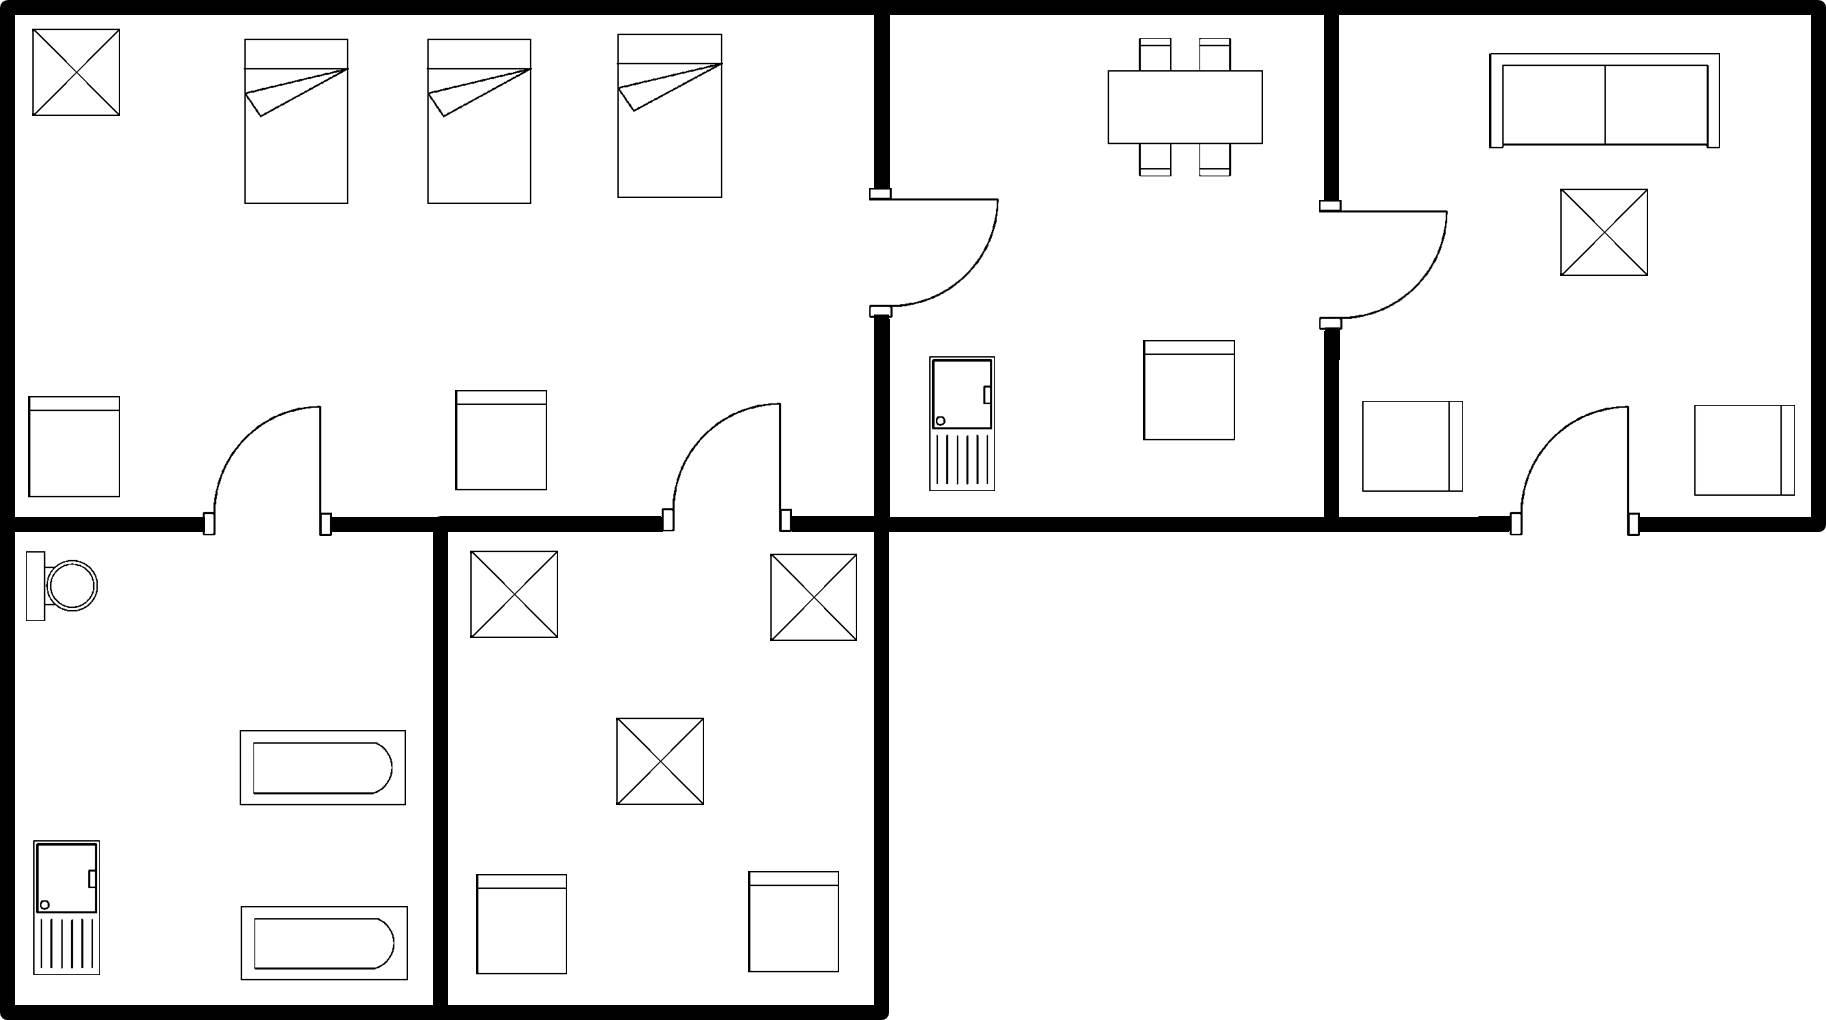bed: (607, 23, 732, 211), (235, 29, 357, 217), (415, 26, 537, 216)
dining_table: (1094, 28, 1272, 189)
sink: (25, 826, 110, 981), (921, 348, 1000, 501)
sofa: (1480, 41, 1729, 161)
toilet: (19, 538, 103, 635)
tub: (226, 716, 413, 815), (230, 896, 415, 986)
